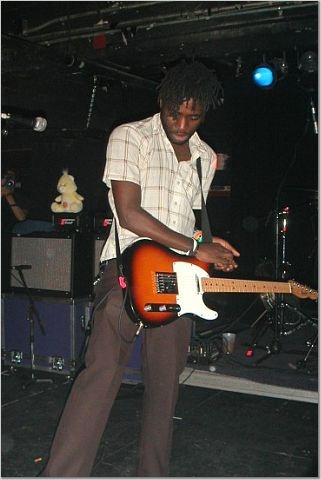head: (158, 64, 208, 145)
person: (48, 61, 243, 459)
